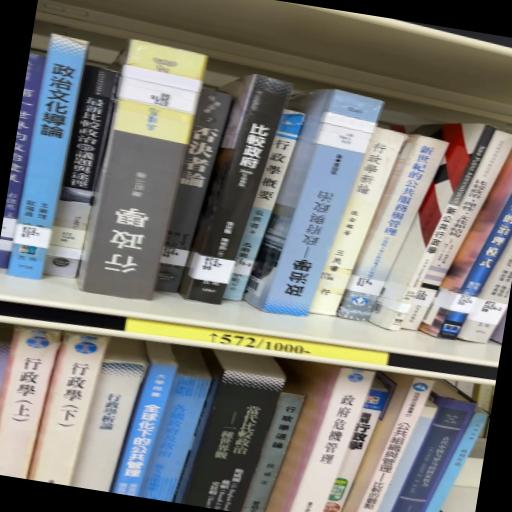reverse: (79, 40, 207, 301), (244, 90, 384, 317)
